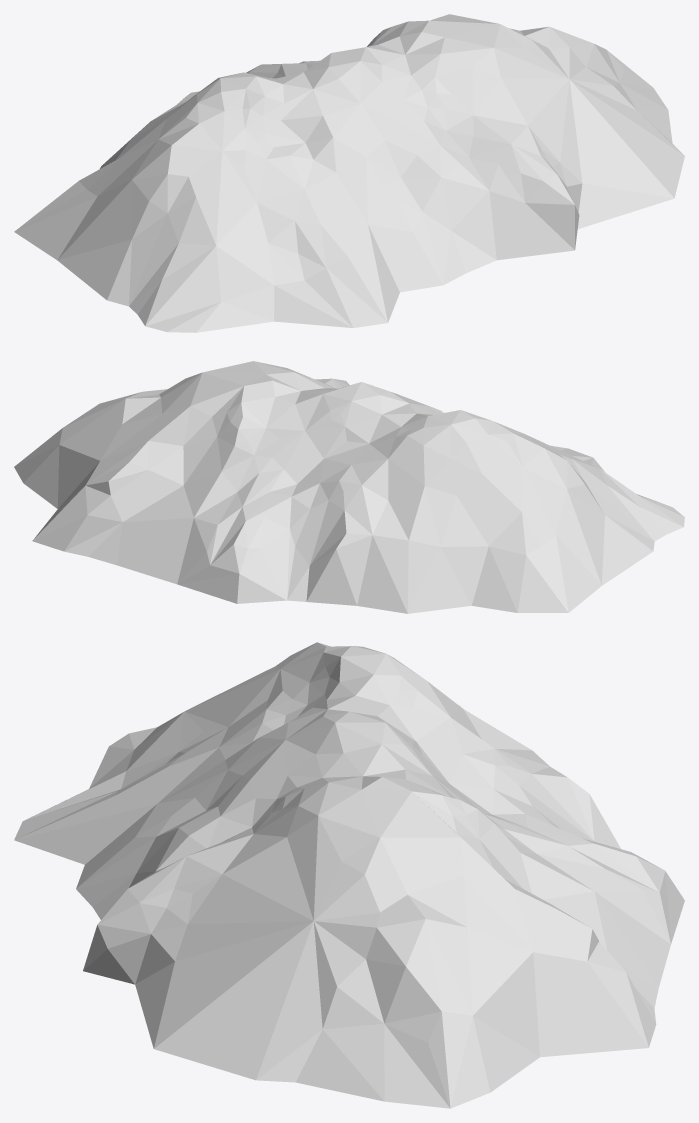
The model's file is Cliff-3.glb.
3 views of the same model, one above another, from view 1: azimuth 30°, elevation 25°; view 2: azimuth 150°, elevation 25°; view 3: azimuth 270°, elevation 25° (orthographic). The views are drawn at different scales.
Visible parts, largest first — view 1: mountains_003; view 2: mountains_003; view 3: mountains_003.
Part boxes in pixels (bbox=[...]): mountains_003: bbox=[14, 14, 684, 332]; mountains_003: bbox=[14, 361, 684, 613]; mountains_003: bbox=[14, 642, 684, 1108].
Size of what is drawn, in the model's own units: 39.55 by 8.63 by 29.29.
1 material, 1 textured.
